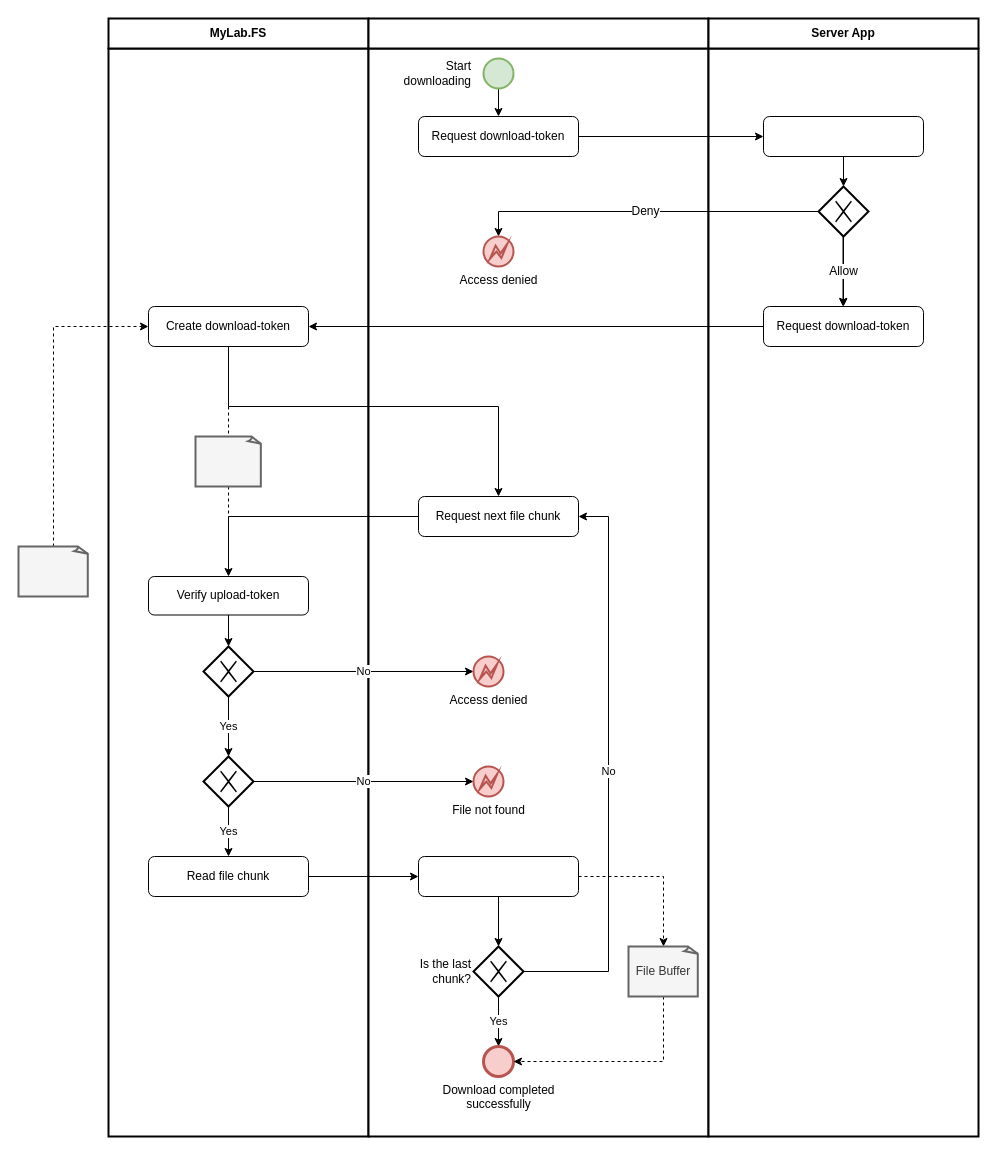
This 996x1154 diagram has some shape labels left out. The shapes that lost their labels are listed below. From the top down, each one's centre as x and y in pixels, then its label:
pixel 538 33: Client
pixel 843 136: Authorize client
pixel 843 211: Access?
pixel 228 461: Download Token
pixel 53 571: Token Secret
pixel 228 671: Is token valid?
pixel 228 781: File exists?
pixel 498 876: Append received chunk to buffer
